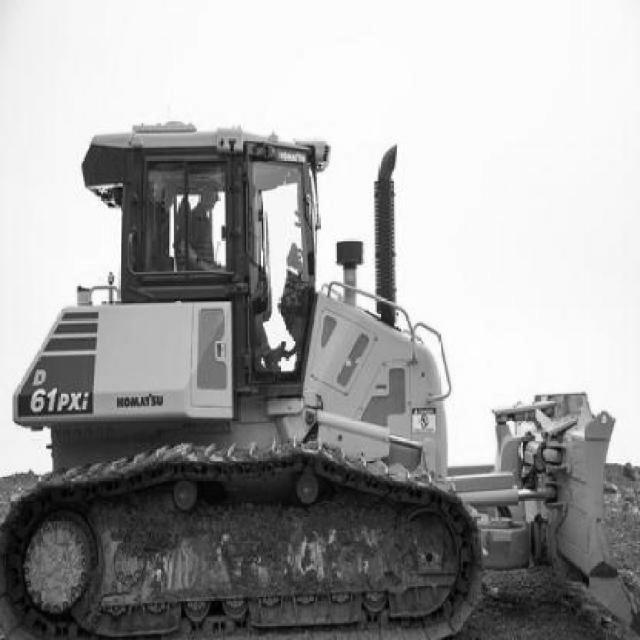Construction Equipment: (0, 124, 636, 640)
